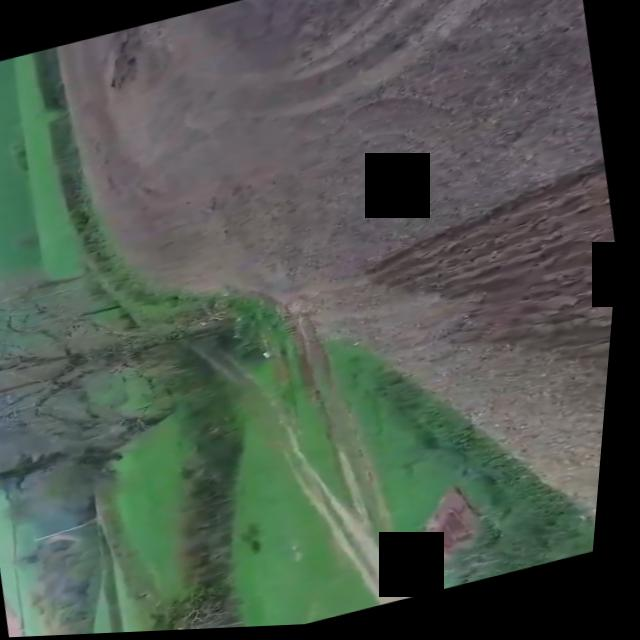Tree: (0, 212, 273, 483)
